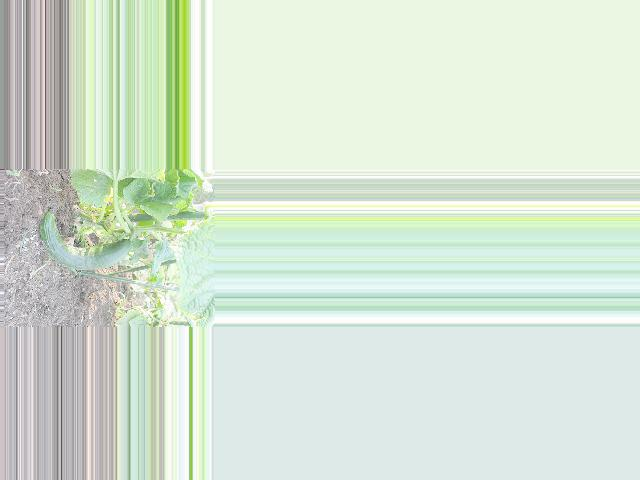cucumber: (39, 211, 132, 270)
